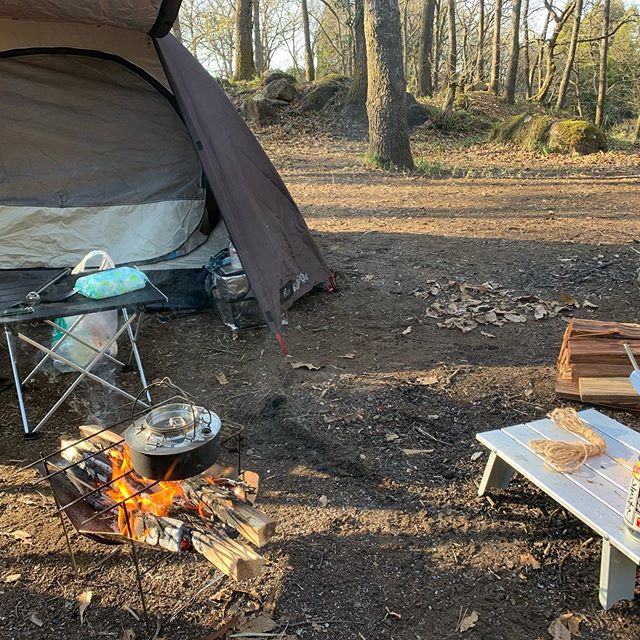fireplace: (66, 426, 264, 583)
tent: (1, 1, 314, 330)
vegetation: (195, 1, 640, 152)
